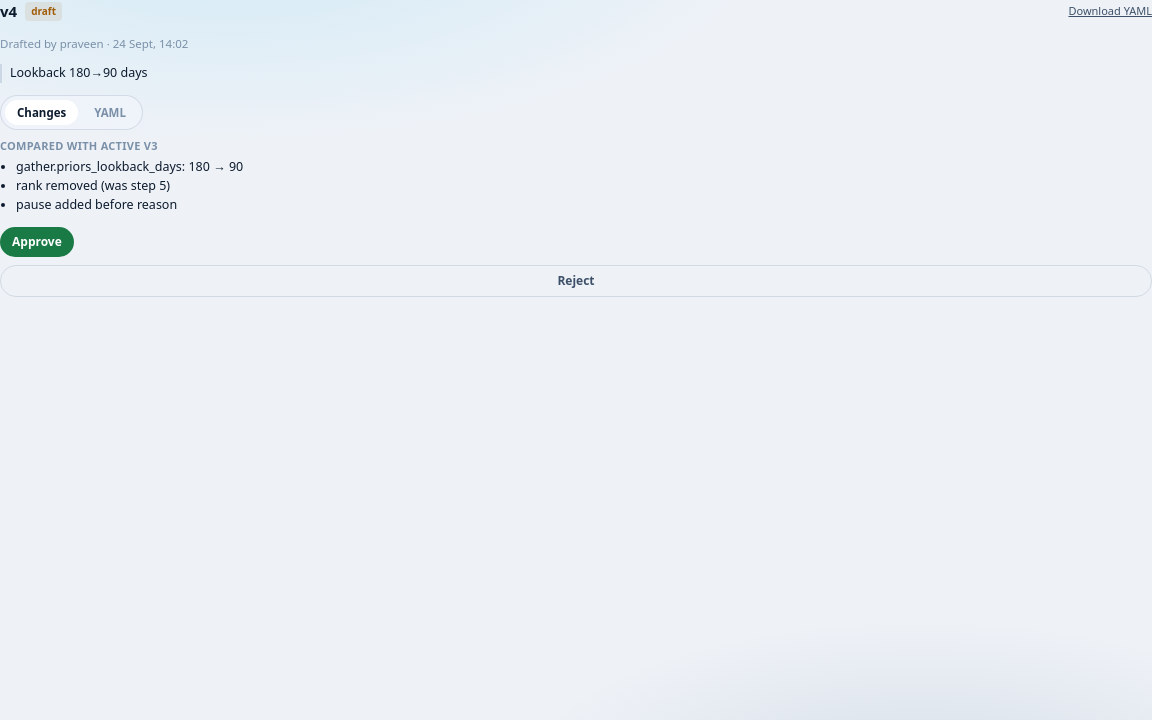
Test: VersionDetail › drops a stale dialog when the reviewed number changes under it
The image size is (1152, 720).
Click the button "Approve": (37, 242) [0,226,74,256]
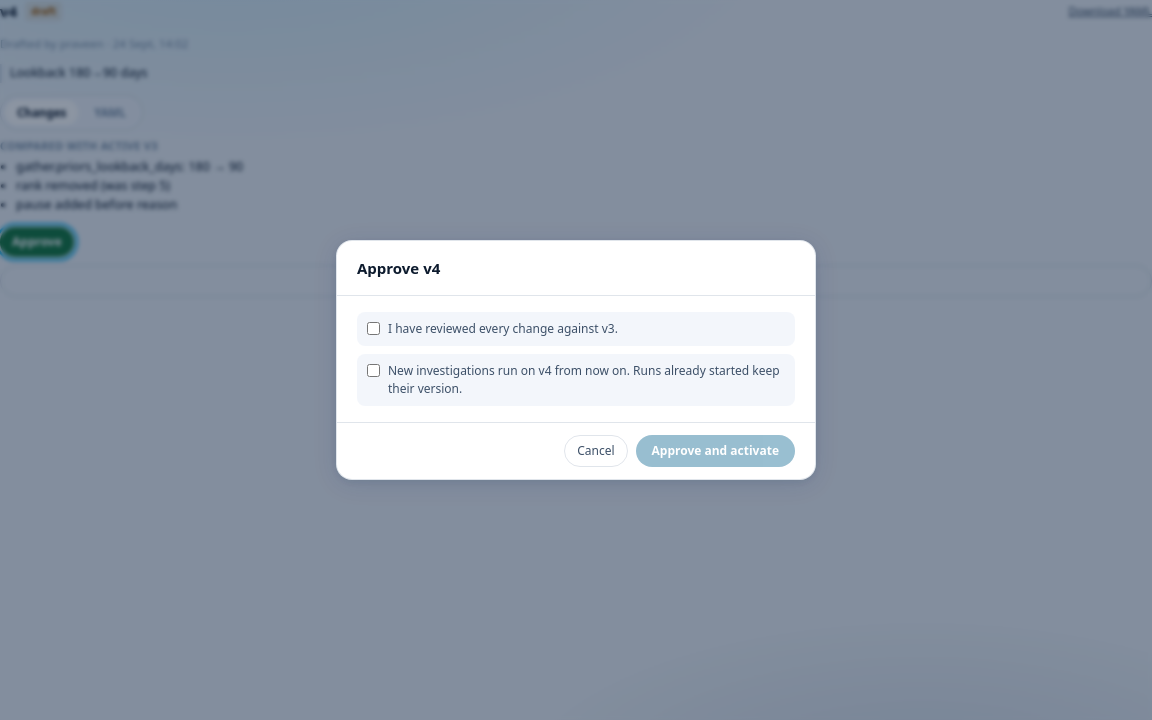
Now the dialog is shown
